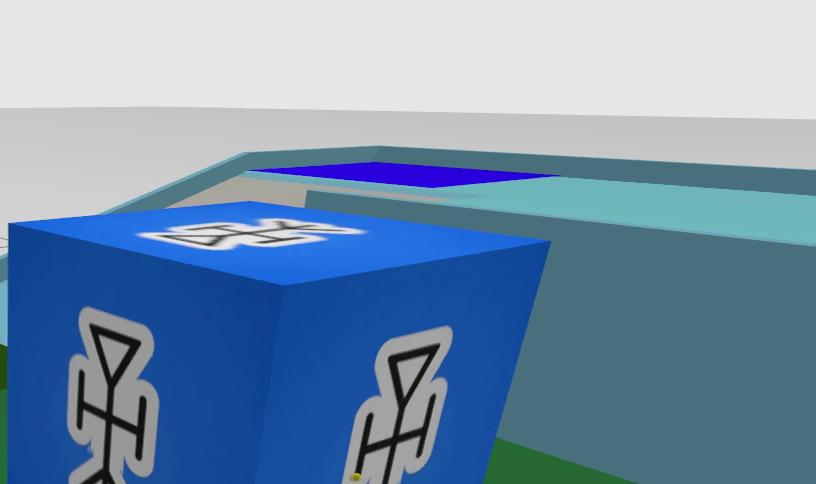KFS_REAL: (6, 202, 550, 484), (341, 327, 450, 484), (67, 308, 158, 484), (138, 218, 364, 250)
